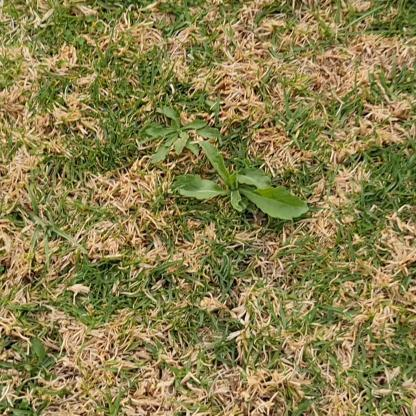Weeds: (171, 142, 310, 220), (139, 106, 222, 162)
